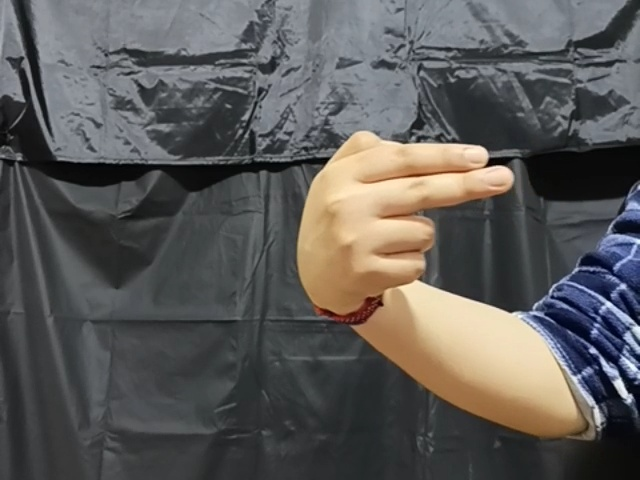H: (290, 127, 518, 300)
